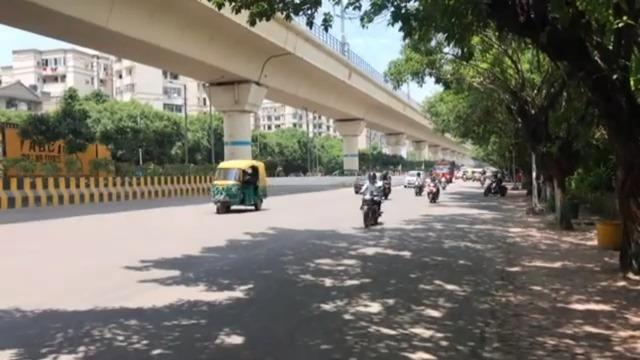Auto: (209, 158, 268, 213)
Bike: (354, 168, 386, 230), (482, 167, 507, 197), (424, 171, 441, 207)
